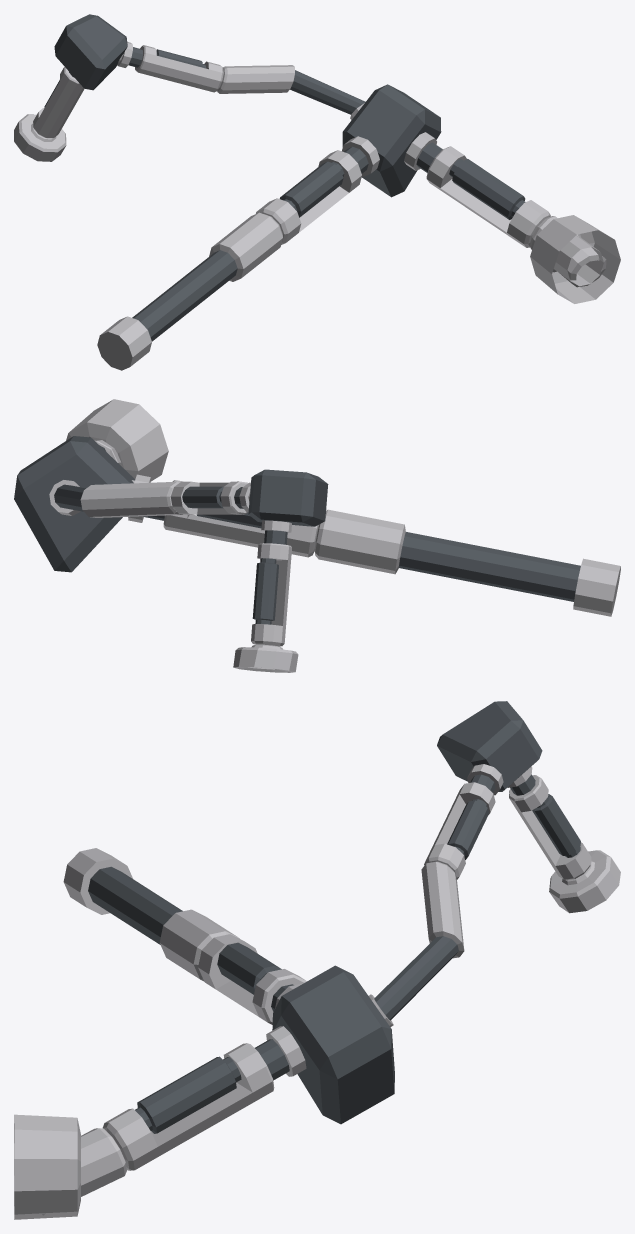
The model's file is Fighter_03_Pipes_04.fbx.
3 renders of one model, top to bottom at view 1: azimuth 30°, elevation 25°; view 2: azimuth 150°, elevation 25°; view 3: azimuth 270°, elevation 25°, orthographic. The views are drawn at different scales.
Visible parts, largest first — view 1: Fighter_03_Pipes_04; view 2: Fighter_03_Pipes_04; view 3: Fighter_03_Pipes_04.
Boxes of the visible parts, x1=… form: Fighter_03_Pipes_04: x1=14, y1=14, x2=620, y2=370; Fighter_03_Pipes_04: x1=14, y1=399, x2=620, y2=672; Fighter_03_Pipes_04: x1=14, y1=701, x2=620, y2=1219.
Size of the model in its own units: 462 by 203 by 377.
1 material, 1 textured.
